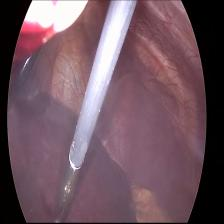Grasper: (44, 157, 83, 218)
